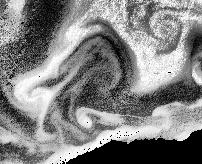CE: (146, 8, 183, 45)
